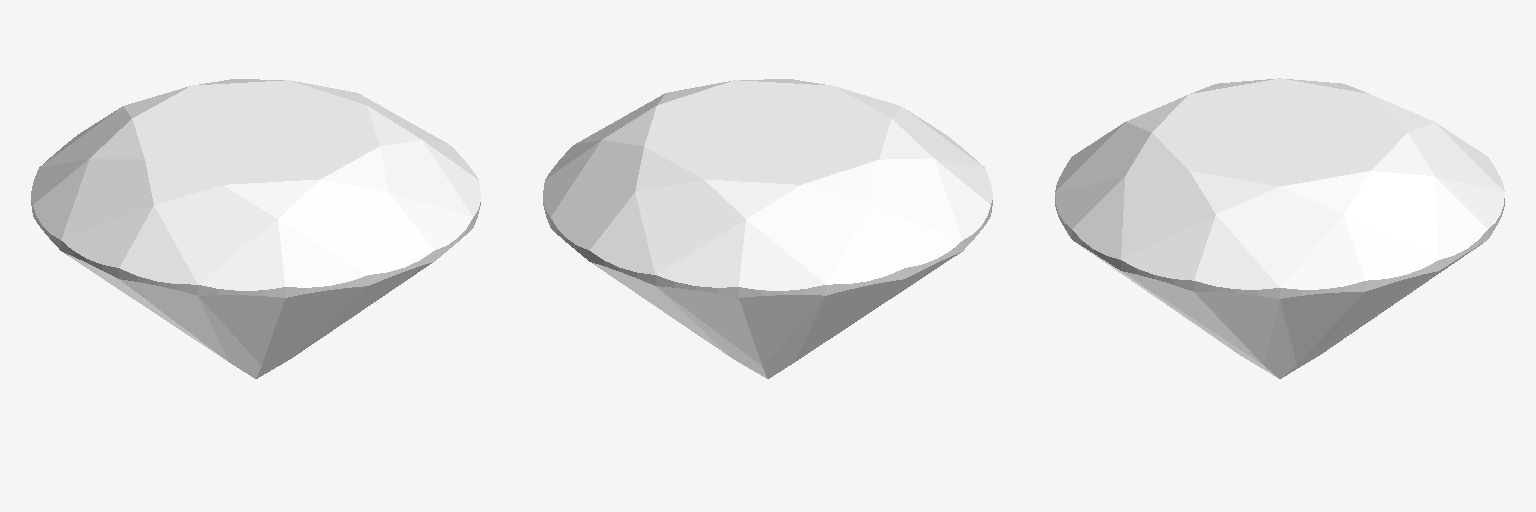
Rendered from Jewel.obj.
The picture shows the model from 3 angles: view 1: azimuth 30°, elevation 25°; view 2: azimuth 150°, elevation 25°; view 3: azimuth 270°, elevation 25°; orthographic projection.
Visible parts, largest first — view 1: Round; view 2: Round; view 3: Round.
Boxes of the visible parts, box(x1,y1,x2,y2) form: Round: box(31, 79, 480, 378); Round: box(543, 79, 992, 378); Round: box(1055, 78, 1504, 378).
Bounding box in the file's own units: 1 × 0.6056 × 1.